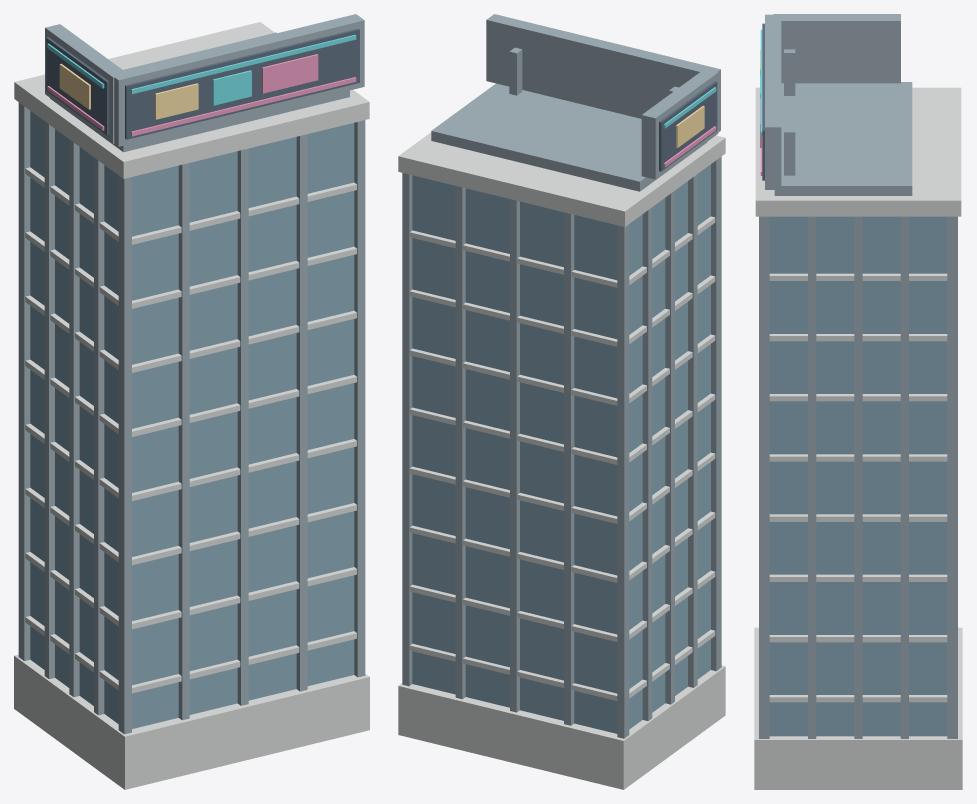
File: suns-group-centre.glb
The picture shows the model from 3 angles, left to right: view 1: azimuth 30°, elevation 25°; view 2: azimuth 150°, elevation 25°; view 3: azimuth 270°, elevation 25°; orthographic projection. The views are drawn at different scales.
Visible parts, largest first — view 1: Suns Group continuous office glazing, Suns Group street podium, Suns Group roof slab, Suns Group main screen, Suns Group facade pier.006, Suns Group facade pier.004, Suns Group facade pier.002, Suns Group main screen housing, Suns Group facade pier.008, Suns Group facade pier, Suns Group side pier.006, Suns Group side pier.004 (+30 smaller); view 2: Suns Group continuous office glazing, Suns Group street podium, Suns Group screen rooftop support, Suns Group main screen housing, Suns Group roof slab, Suns Group facade pier.001, Suns Group facade pier.007, Suns Group facade pier.003, Suns Group side pier.006, Suns Group facade pier.005, Suns Group side pier.002, Suns Group facade pier.009 (+25 smaller); view 3: Suns Group continuous office glazing, Suns Group screen rooftop support, Suns Group street podium, Suns Group roof slab, Suns Group return screen housing, Suns Group side pier.005, Suns Group side pier.003, Suns Group side pier.007, Suns Group facade pier.008, Suns Group facade pier.009, Suns Group side pier.009, Suns Group side pier.001 (+12 smaller).
Boxes of the visible parts, x1,y1,x2,y2 form: Suns Group continuous office glazing: (30,111,354,728); Suns Group street podium: (14,654,369,789); Suns Group roof slab: (14,22,369,178); Suns Group main screen: (125,28,359,139); Suns Group facade pier.006: (296,134,307,691); Suns Group facade pier.004: (237,148,248,705); Suns Group facade pier.002: (178,163,189,720); Suns Group main screen housing: (110,14,364,146); Suns Group facade pier.008: (354,120,365,677); Suns Group facade pier: (120,176,131,734); Suns Group side pier.006: (44,121,54,679); Suns Group side pier.004: (69,139,79,697); Suns Group continuous office glazing: (412,164,710,733); Suns Group street podium: (398,665,725,789); Suns Group screen rooftop support: (431,83,707,191); Suns Group main screen housing: (486,14,720,132); Suns Group roof slab: (398,132,725,226); Suns Group facade pier.001: (617,225,628,738); Suns Group facade pier.007: (455,186,465,699); Suns Group facade pier.003: (564,212,574,725); Suns Group side pier.006: (642,207,652,720); Suns Group facade pier.005: (510,199,519,712); Suns Group side pier.002: (688,174,697,687); Suns Group facade pier.009: (402,173,412,686); Suns Group continuous office glazing: (769,216,947,736); Suns Group screen rooftop support: (774,82,912,195); Suns Group street podium: (754,627,962,789); Suns Group roof slab: (755,87,961,216); Suns Group return screen housing: (773,14,900,83); Suns Group side pier.005: (854,216,862,738); Suns Group side pier.003: (808,216,816,738); Suns Group side pier.007: (900,216,908,738); Suns Group facade pier.008: (759,216,767,738); Suns Group facade pier.009: (949,216,957,738); Suns Group side pier.009: (947,216,955,738); Suns Group side pier.001: (761,216,769,738).
Bounding box in the file's own units: 2.18 × 5.83 × 1.66.
